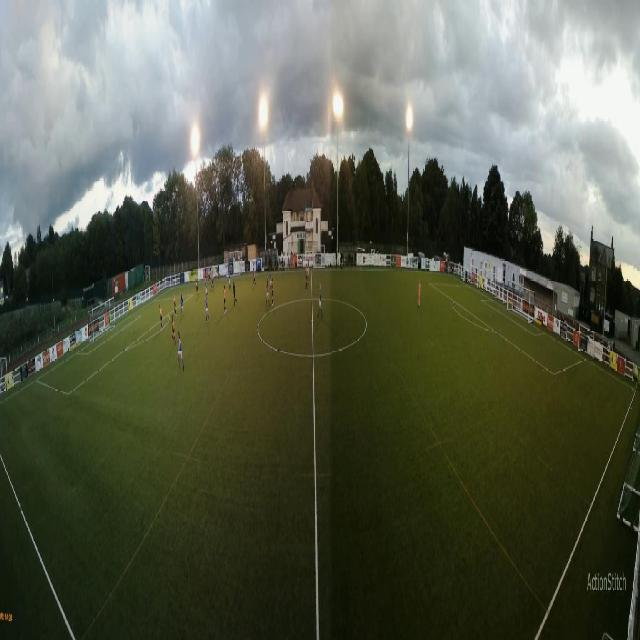player: (177, 333, 183, 371), (171, 314, 176, 351), (418, 273, 422, 314), (158, 301, 163, 331), (319, 281, 323, 317), (195, 276, 199, 301), (224, 283, 227, 315), (173, 294, 177, 316), (109, 309, 112, 335), (307, 258, 310, 283), (211, 269, 214, 291), (253, 267, 256, 287), (267, 277, 269, 307), (206, 292, 208, 321), (272, 277, 274, 306), (205, 278, 208, 296), (233, 281, 235, 307), (181, 294, 183, 318), (229, 270, 231, 291), (270, 272, 272, 291), (210, 265, 211, 290), (306, 264, 307, 288)
